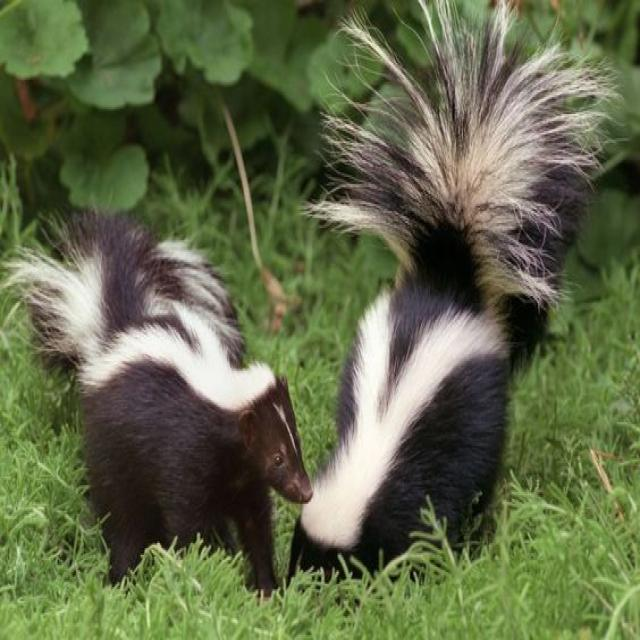Skunk: (10, 170, 308, 592)
